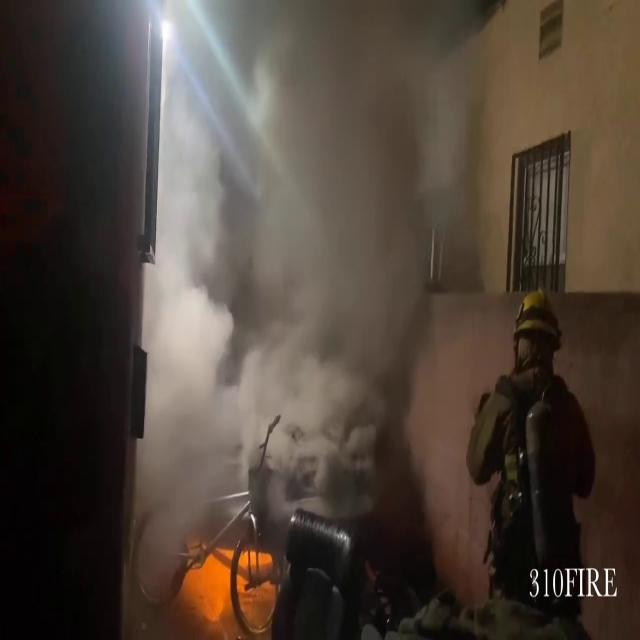Smoke: (140, 0, 504, 565)
